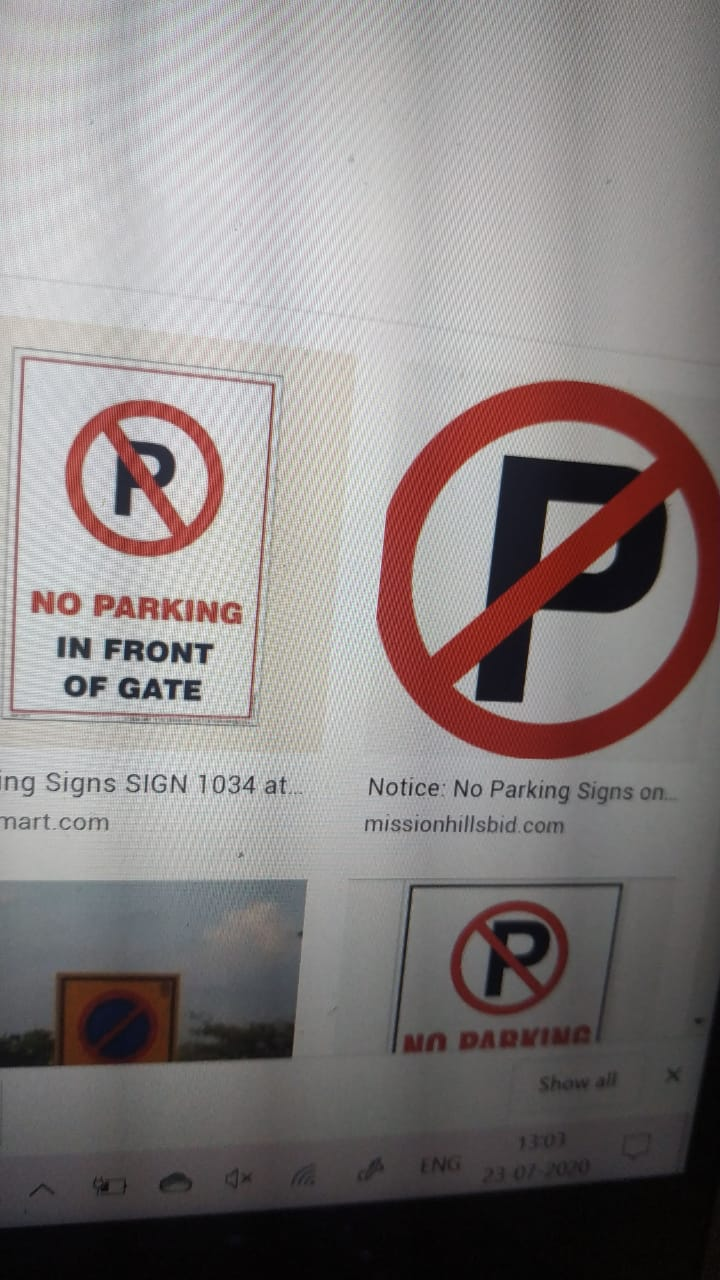NO PARKING: (378, 356, 720, 805), (51, 360, 237, 565), (433, 894, 591, 1019)
